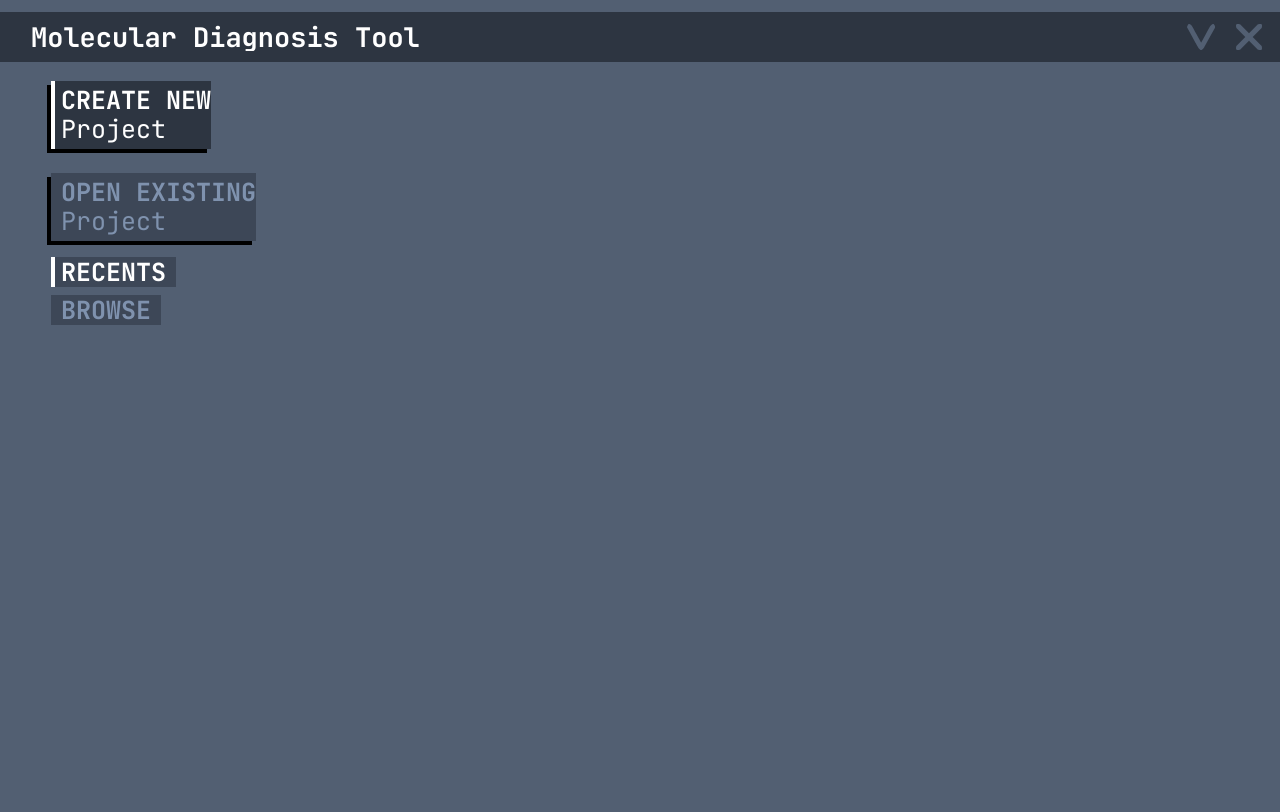
Scenario: live progress › sends a run token and shows the stage the backend reports
Click the button "Open Existing Project": [154, 207] box [51,173,256,241]
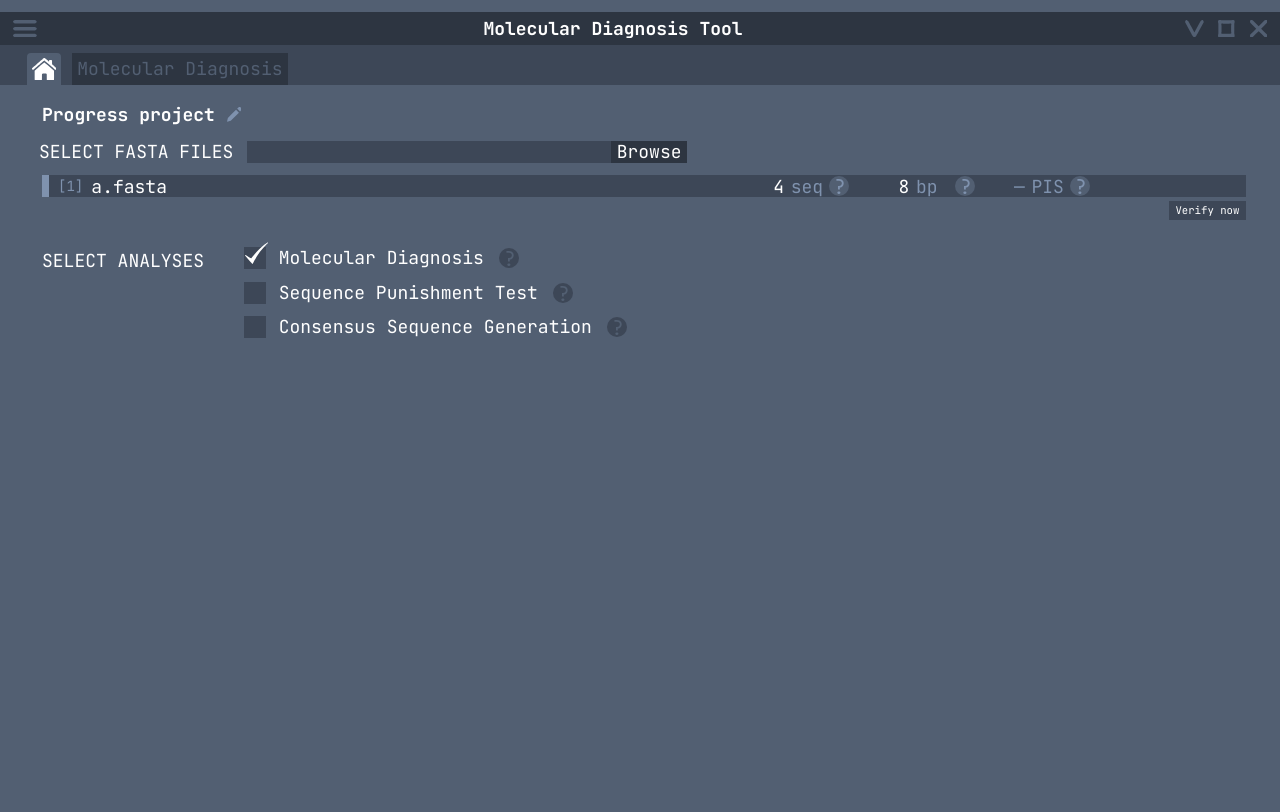
Result: the heading "Progress project" is shown at [42,105,215,125]
Click the tab "Molecular Diagnosis": [180, 69] box [72,53,288,85]
Wait 400 ms
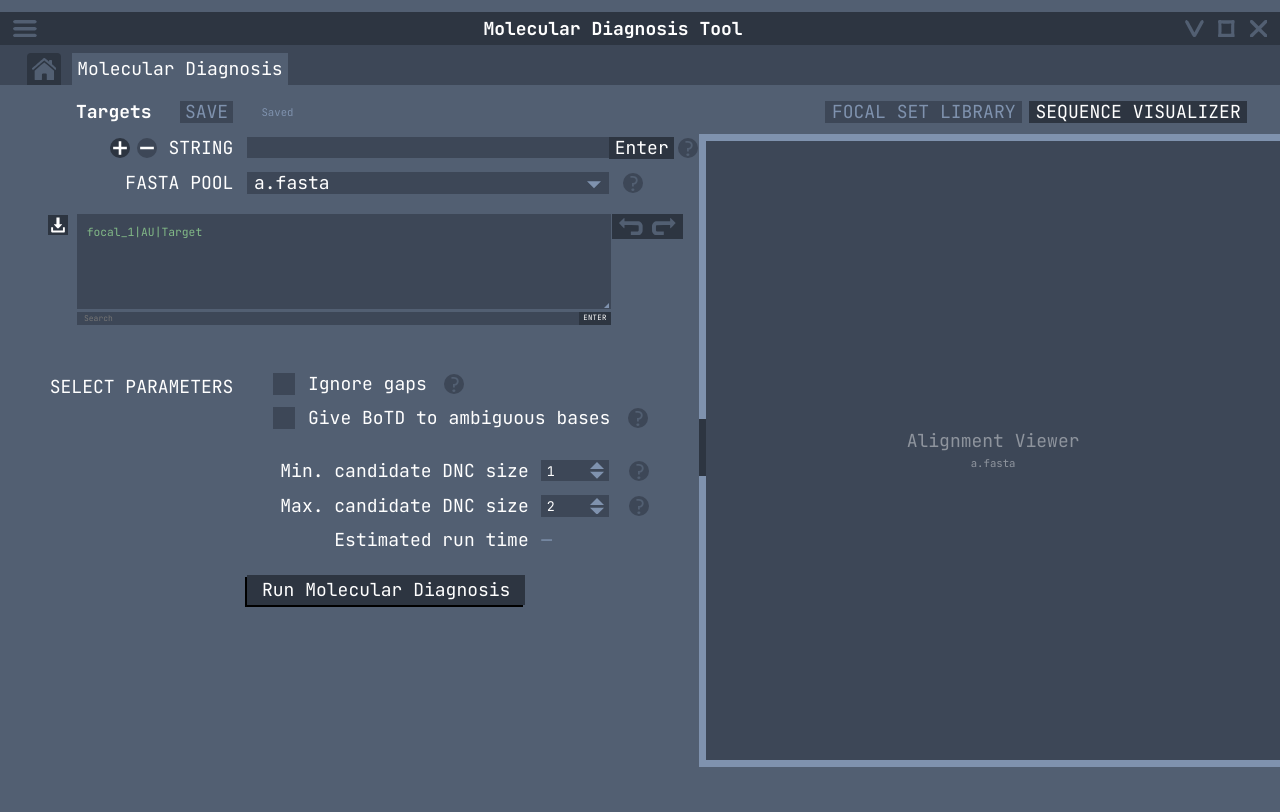
Result: the button "Run Molecular Diagnosis" is enabled
Click the button "Run Molecular Diagnosis": [386, 590] box [247,575,525,605]
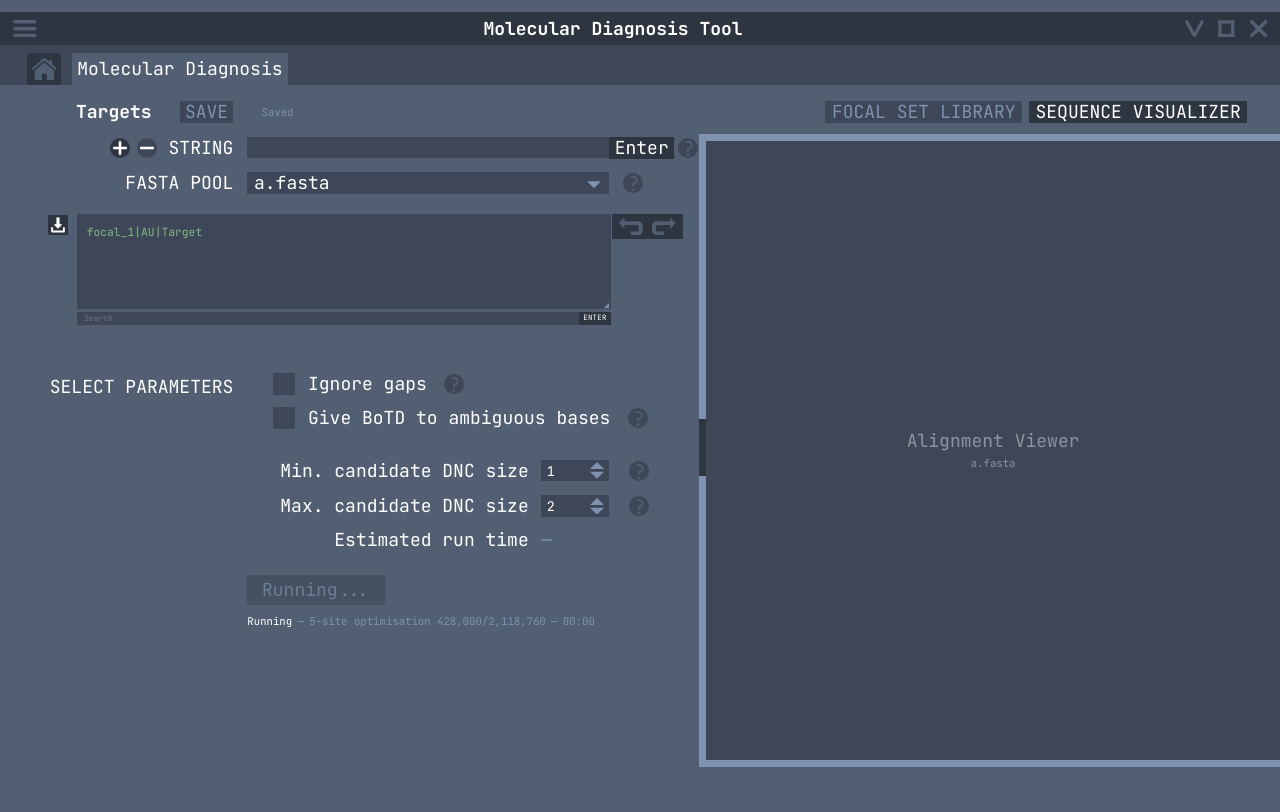
Result: the text "Running" is shown at [247,615,292,629]
Result: the message with class "run-panel__status--running" shows "5-site optimisation" at [309,614,546,628]
Result: the message with class "run-panel__status--running" shows "428,000/2,118,760" at [309,614,546,628]
